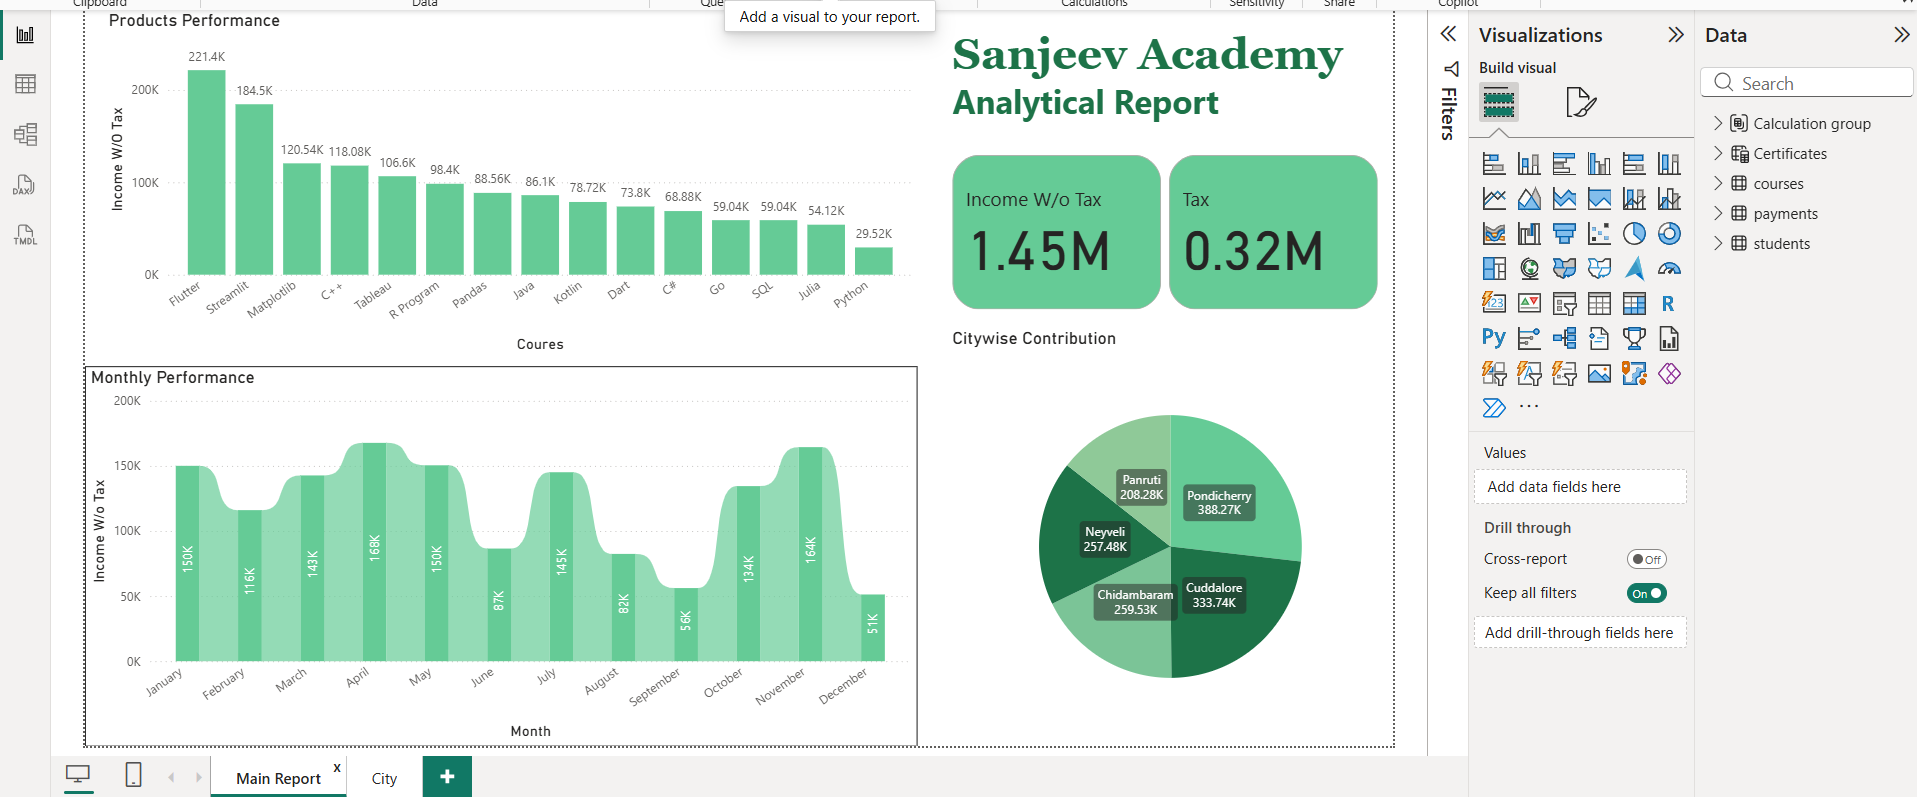

The page's visual inventory and layout, read from the dashboard file:
{"tool":"powerbi","page":{"name":"Main Report","canvas":[1280,720],"ordinal":0},"visuals":[{"type":"columnChart","title":"Products Performance","fields":{"Category":["courses.NAME"],"Y":["Calculation group.Income W/o Tax"]},"box":[18.3,0,796.1,339.9],"z":0},{"type":"pieChart","title":"Citywise Contribution","fields":{"Category":["students.CITY"],"Y":["Calculation group.Income W/o Tax"]},"box":[843.8,310.6,436.6,409.6],"z":1000},{"type":"ribbonChart","title":"Monthly Performance ","fields":{"Y":["Calculation group.Income W/o Tax"],"Category":["payments.Date.Variation.Date Hierarchy.Month"]},"box":[0,348.5,814.4,371.7],"z":2000},{"type":"textbox","box":[843.8,13.5,410.9,123.5],"z":3000},{"type":"cardVisual","fields":{"Data":["Calculation group.Income W/o Tax","Calculation group.Tax"]},"box":[843.8,137,428,161.4],"z":4000}]}

Visuals, with their boxes on the page's 1280x720 design canvas (x1, y1, x2, y2). These are canvas units, not pixel positions in the 1917x797 screenshot, which may show the page scaled, cropped or inside an application window:
"Products Performance" columnChart: [left=18, top=0, right=814, bottom=340]
"Citywise Contribution" pieChart: [left=844, top=311, right=1280, bottom=720]
"Monthly Performance " ribbonChart: [left=0, top=348, right=814, bottom=720]
textbox: [left=844, top=14, right=1255, bottom=137]
cardVisual - Calculation group.Income W/o Tax x Calculation group.Tax: [left=844, top=137, right=1272, bottom=298]
